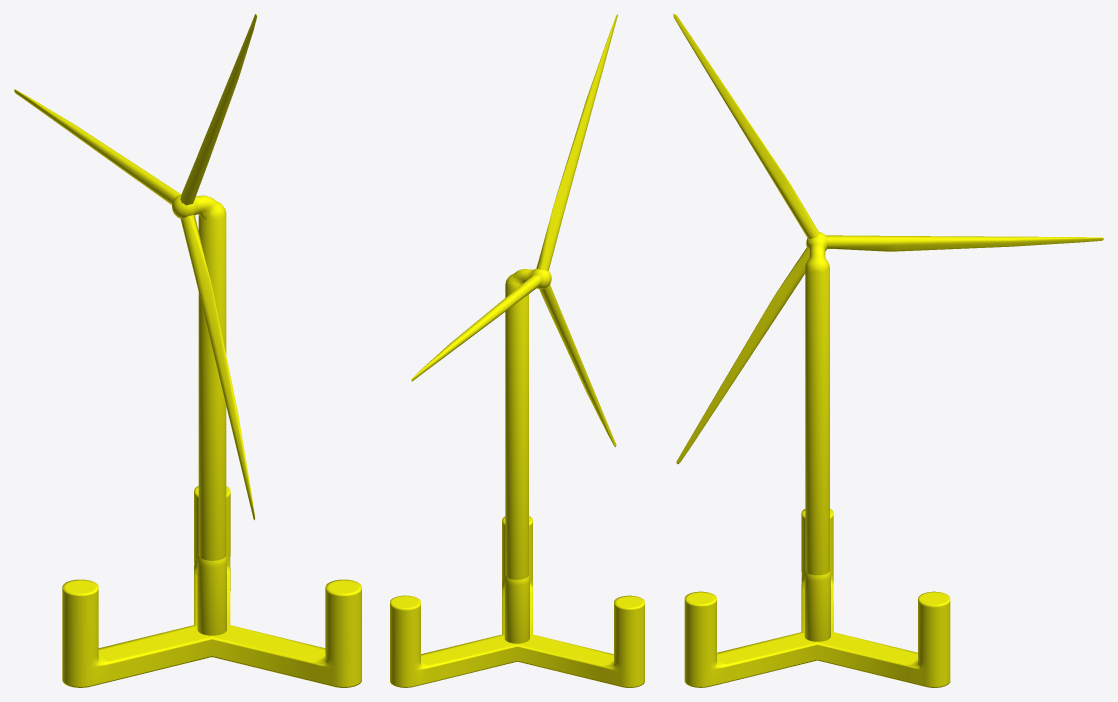
Rendered from Turbine.fbx.
3 renders of one model, left to right at view 1: azimuth 30°, elevation 25°; view 2: azimuth 150°, elevation 25°; view 3: azimuth 270°, elevation 25°, orthographic. The views are drawn at different scales.
Visible parts, largest first — view 1: NewFloater, NewTower, NewBlades, NewTowerBase, Turbine Connector; view 2: NewFloater, NewTower, NewBlades, NewTowerBase, Turbine Connector; view 3: NewFloater, NewBlades, NewTower, NewTowerBase, Turbine Connector.
Part boxes in pixels (x1=…): NewFloater: x1=62, y1=486, x2=361, y2=687; NewTower: x1=198, y1=216, x2=226, y2=560; NewBlades: x1=14, y1=14, x2=257, y2=520; NewTowerBase: x1=197, y1=553, x2=226, y2=635; Turbine Connector: x1=172, y1=194, x2=226, y2=220; NewFloater: x1=390, y1=516, x2=644, y2=687; NewTower: x1=505, y1=286, x2=528, y2=579; NewBlades: x1=411, y1=14, x2=617, y2=447; NewTowerBase: x1=504, y1=574, x2=529, y2=643; Turbine Connector: x1=505, y1=268, x2=551, y2=289; NewFloater: x1=684, y1=509, x2=950, y2=687; NewBlades: x1=673, y1=14, x2=1103, y2=464; NewTower: x1=805, y1=268, x2=829, y2=575; NewTowerBase: x1=804, y1=569, x2=830, y2=641; Turbine Connector: x1=805, y1=232, x2=829, y2=273.
Bounding box in the file's own units: 633 × 1010 × 345.
